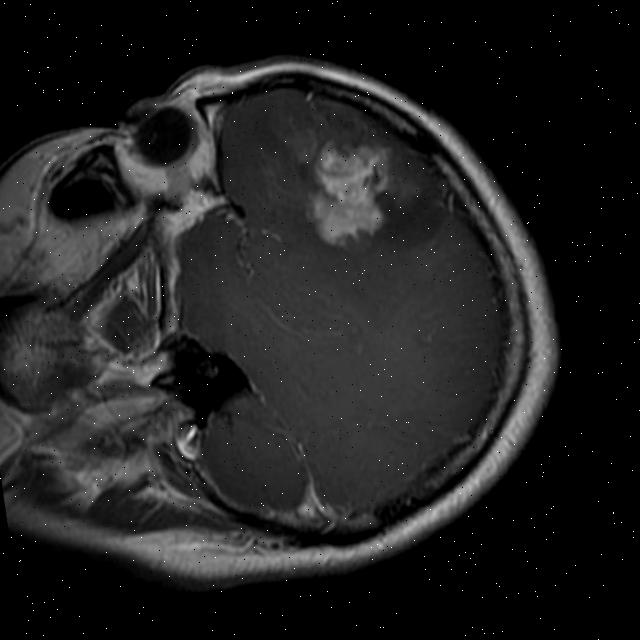Glioma: (290, 130, 407, 257)
